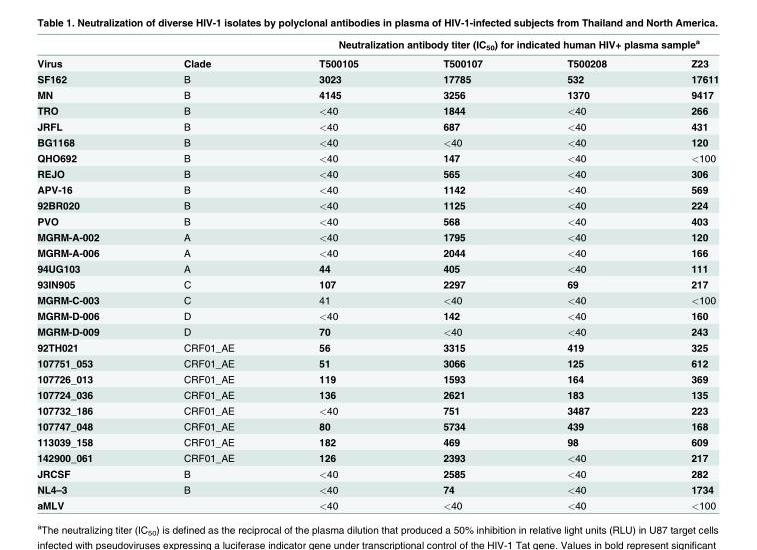table: (36, 36, 718, 510)
table column: (140, 36, 276, 510), (276, 36, 400, 510), (400, 36, 524, 510), (524, 36, 648, 510), (36, 36, 140, 510), (648, 36, 718, 510)
table column header: (36, 36, 718, 70)
table row: (36, 36, 718, 53), (36, 53, 718, 70), (36, 70, 718, 86), (36, 86, 718, 102), (36, 102, 718, 118), (36, 133, 718, 149), (36, 149, 718, 165), (36, 165, 718, 181), (36, 181, 718, 197), (36, 212, 718, 228), (36, 228, 718, 244), (36, 244, 718, 260), (36, 275, 718, 291), (36, 291, 718, 307), (36, 307, 718, 323), (36, 323, 718, 339), (36, 354, 718, 370), (36, 370, 718, 386), (36, 386, 718, 402), (36, 402, 718, 418), (36, 433, 718, 449), (36, 449, 718, 465), (36, 465, 718, 481), (36, 118, 718, 133), (36, 197, 718, 212), (36, 260, 718, 275), (36, 339, 718, 354), (36, 418, 718, 433), (36, 481, 718, 496), (36, 496, 718, 510)
table spanning cell: (276, 36, 718, 53), (140, 36, 276, 70), (36, 36, 140, 70)
